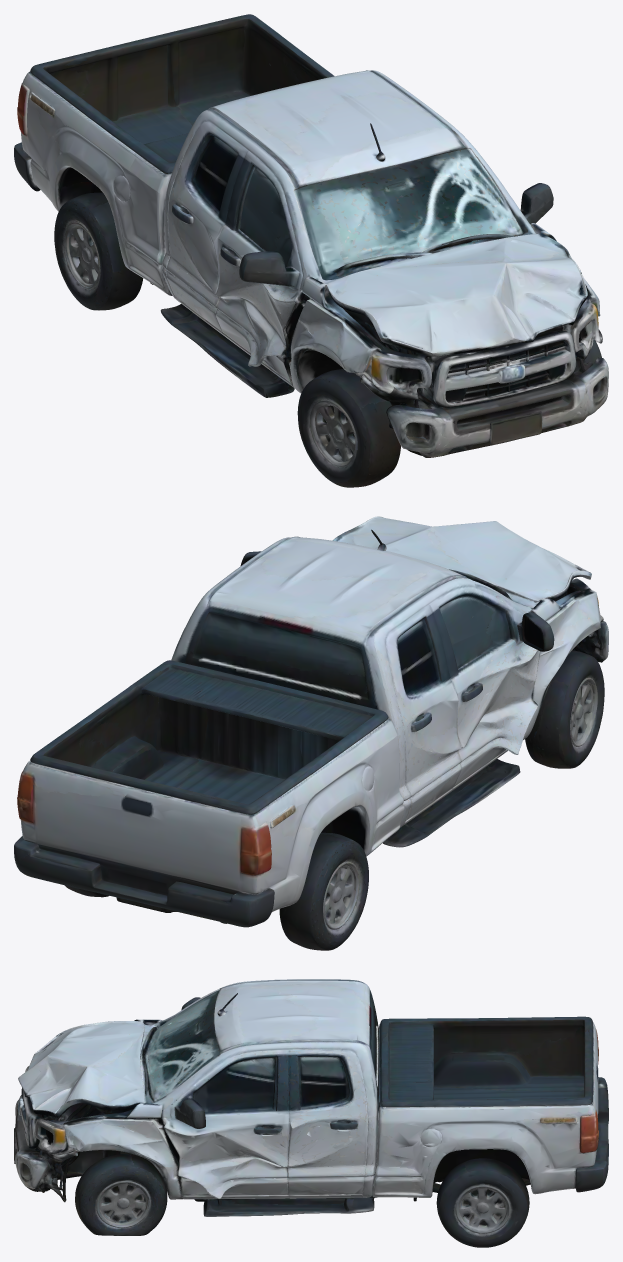
File: BrokenPickupTruck1.glb
3 renders of one model, top to bottom at view 1: azimuth 30°, elevation 25°; view 2: azimuth 150°, elevation 25°; view 3: azimuth 270°, elevation 25°, orthographic. The views are drawn at different scales.
Visible parts, largest first — view 1: BrokenPickupTruck1; view 2: BrokenPickupTruck1; view 3: BrokenPickupTruck1.
Part boxes in pixels (x1,y1,x2,y2): BrokenPickupTruck1: [14, 14, 608, 487]; BrokenPickupTruck1: [14, 516, 608, 950]; BrokenPickupTruck1: [14, 979, 608, 1247].
Size of the model in its own units: 0.5027 by 0.4211 by 1.09.
1 material, 1 textured.
